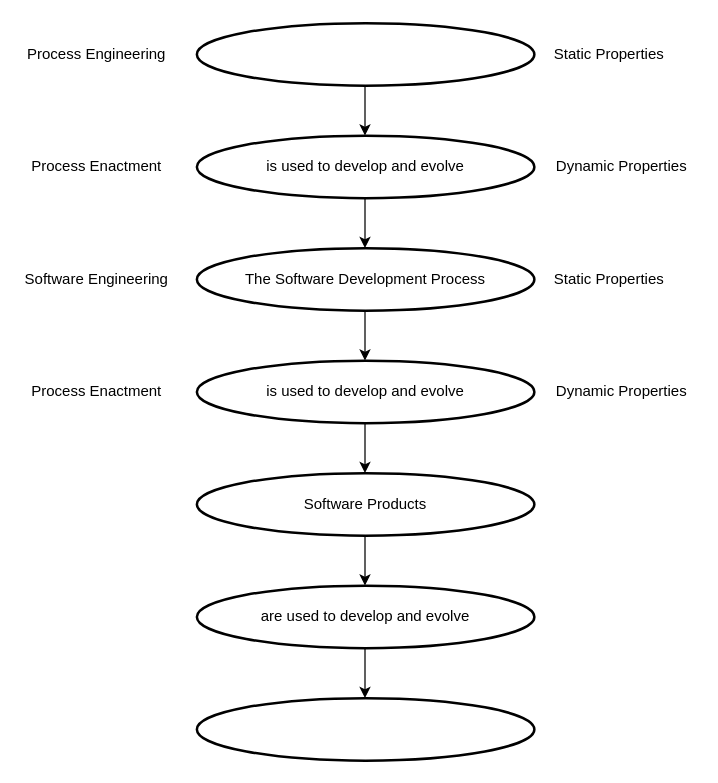
The diagram is 718 pixels wide and 783 high, and some of its shapes have lost their labels. The centre of each missing label's shape, as x and y in pixels:
"Results for users" belongs at point (365, 728).
"The Process Development Process" belongs at point (365, 53).
